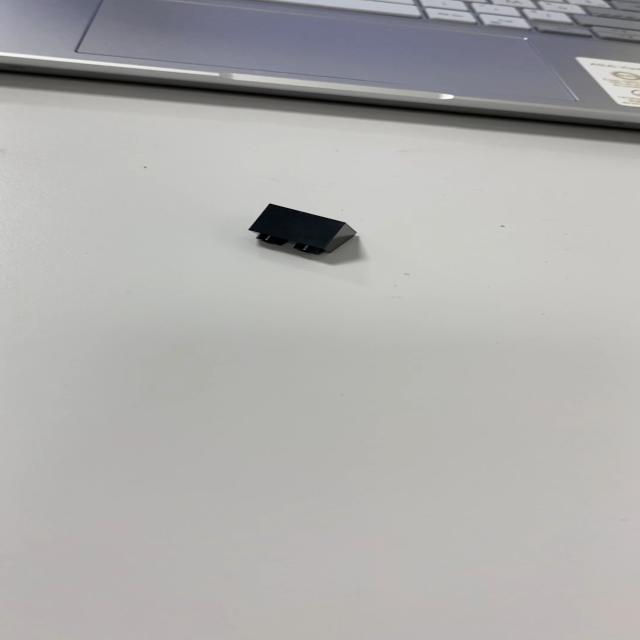P2x2x1: (246, 202, 358, 257)
